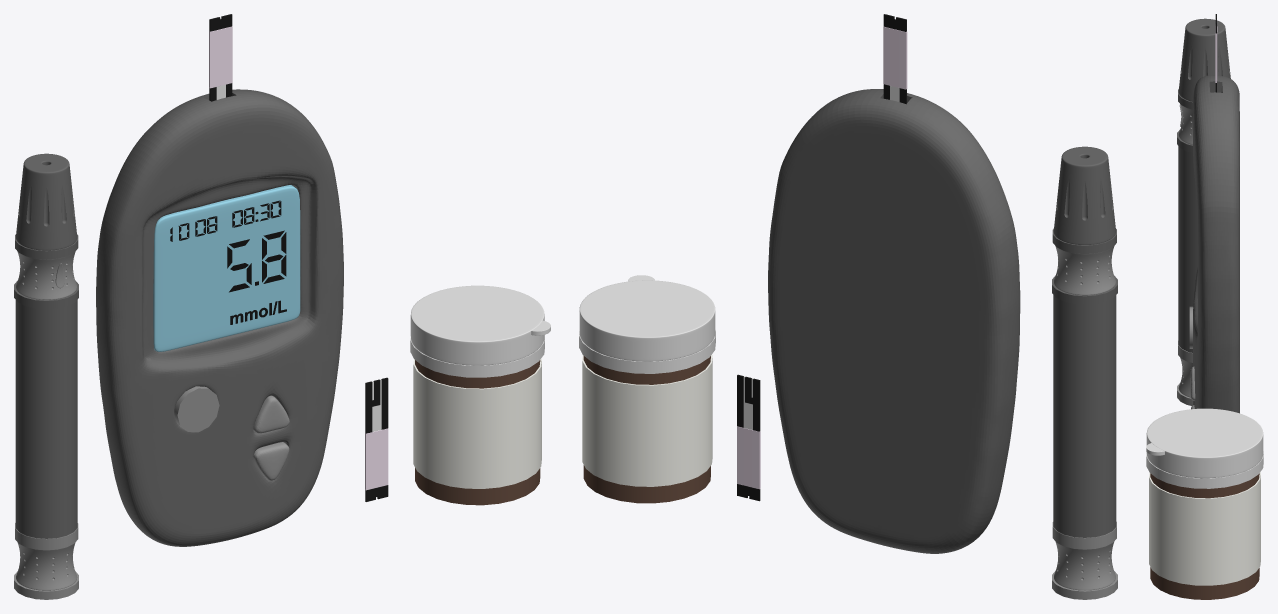
The model's file is blood_sugar_r001.FBX.
3 views of the same model, side by side, from view 1: azimuth 30°, elevation 25°; view 2: azimuth 150°, elevation 25°; view 3: azimuth 270°, elevation 25° (orthographic). The views are drawn at different scales.
Parts seen in each view (by area): view 1: objGroup15973, Box01, Cylinder02, Cylinder17, Cylinder20, Cylinder05, Cylinder16, tab, text, Cylinder14, Cylinder04, tab01 (+7 smaller); view 2: objGroup15973, Cylinder02, Cylinder17, Cylinder20, Cylinder05, Cylinder16, tab, Cylinder04, Cylinder14, tab01, Cylinder18, Cylinder09 (+2 smaller); view 3: objGroup15973, Cylinder17, Cylinder20, Cylinder02, Cylinder05, Cylinder16, Cylinder18, Cylinder04, Cylinder14, tab01.
Boxes of the visible parts, bbox=[...] form: objGroup15973: bbox=[96, 89, 343, 546]; Box01: bbox=[153, 185, 300, 351]; Cylinder02: bbox=[15, 300, 77, 538]; Cylinder17: bbox=[413, 359, 541, 488]; Cylinder20: bbox=[410, 285, 550, 365]; Cylinder05: bbox=[16, 153, 77, 250]; Cylinder16: bbox=[415, 360, 540, 505]; tab: bbox=[365, 377, 388, 501]; text: bbox=[170, 200, 286, 324]; Cylinder14: bbox=[16, 542, 77, 590]; Cylinder04: bbox=[16, 251, 77, 299]; tab01: bbox=[209, 14, 232, 101]; objGroup15973: bbox=[768, 89, 1020, 553]; Cylinder02: bbox=[1053, 295, 1116, 537]; Cylinder17: bbox=[582, 354, 712, 486]; Cylinder20: bbox=[579, 275, 715, 361]; Cylinder05: bbox=[1053, 146, 1115, 244]; Cylinder16: bbox=[583, 356, 710, 503]; tab: bbox=[737, 374, 760, 501]; Cylinder04: bbox=[1054, 246, 1115, 295]; Cylinder14: bbox=[1054, 541, 1115, 590]; tab01: bbox=[883, 14, 907, 104]; Cylinder18: bbox=[579, 330, 715, 373]; Cylinder09: bbox=[1052, 521, 1116, 549]; objGroup15973: bbox=[1193, 75, 1239, 413]; Cylinder17: bbox=[1149, 472, 1260, 585]; Cylinder20: bbox=[1146, 408, 1263, 478]; Cylinder02: bbox=[1178, 146, 1197, 352]; Cylinder05: bbox=[1178, 18, 1230, 101]; Cylinder16: bbox=[1150, 473, 1259, 599]; Cylinder18: bbox=[1146, 451, 1263, 488]; Cylinder04: bbox=[1178, 104, 1192, 144]; Cylinder14: bbox=[1178, 357, 1192, 397]; tab01: bbox=[1215, 14, 1217, 92].
Size of the model in its own units: 190 by 183 by 42.87.
